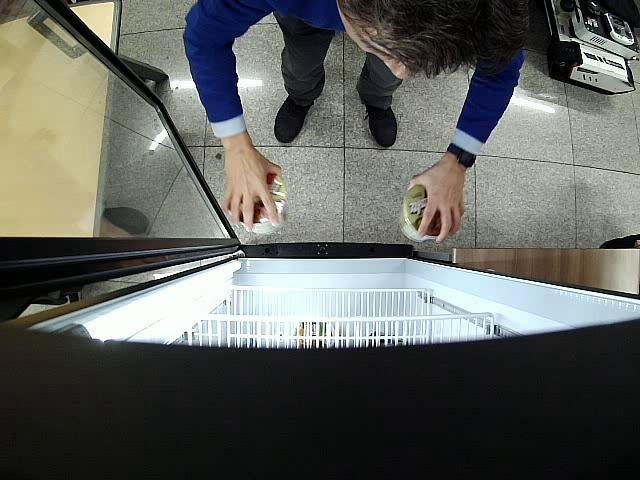03_chapagetti_L: (228, 172, 290, 234), (398, 185, 454, 243)
